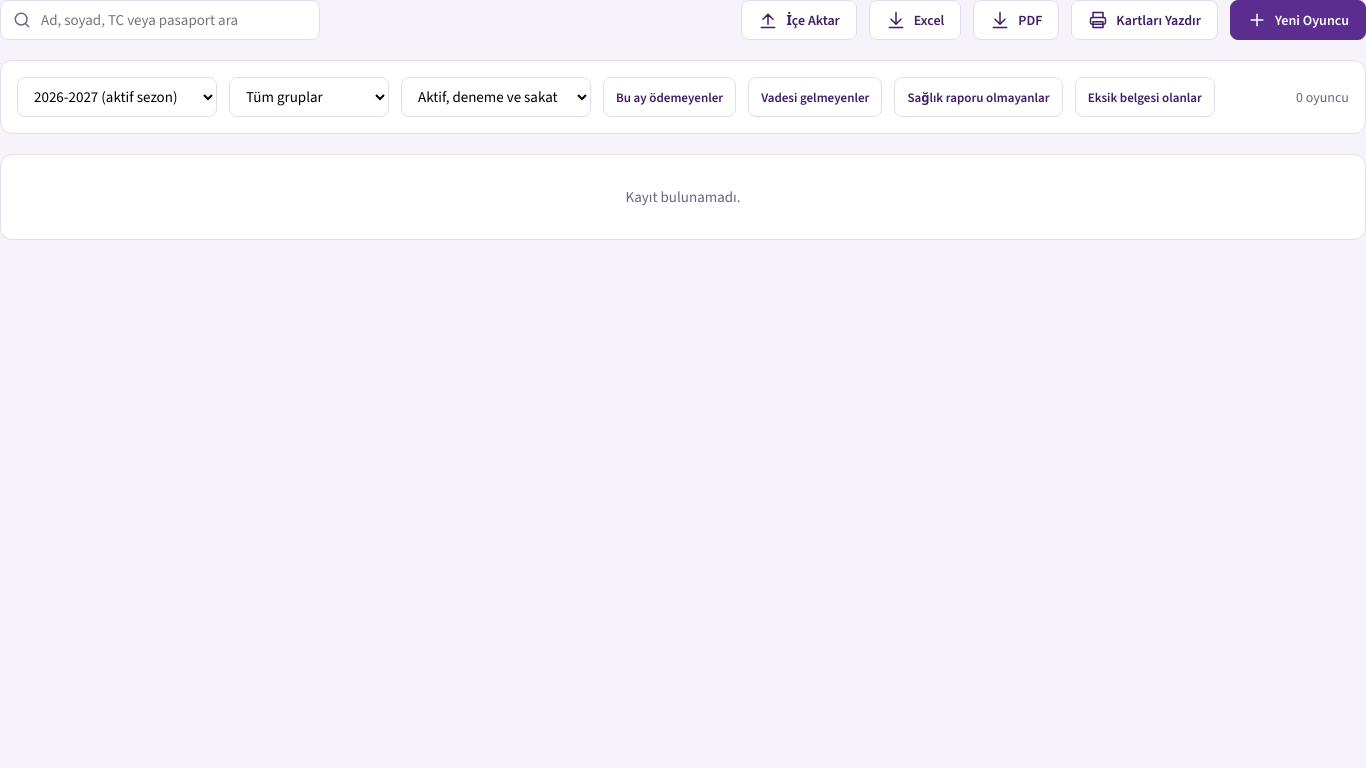
Test case: Oyuncular › Kartları Yazdır › doğrudan basmaz: Giriş Kartları penceresini açar (plan §40.7; ayrıntı tests/ui/kart-basim.test.jsx)
This screenshot has width=1366, height=768.
Click the button "Kartları Yazdır" at (1145, 20), box [1071, 0, 1218, 40]
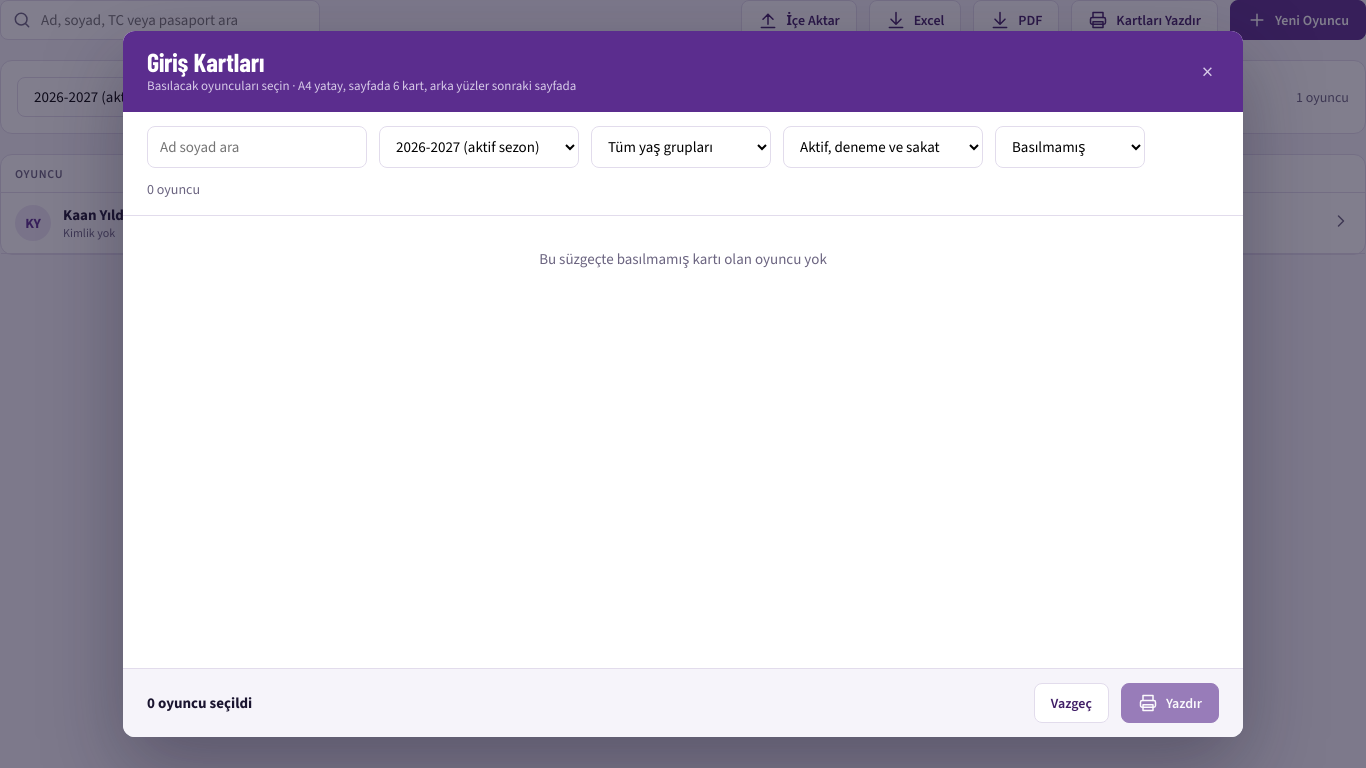
Now the text "Giriş Kartları" is shown, box [147, 46, 264, 77]
